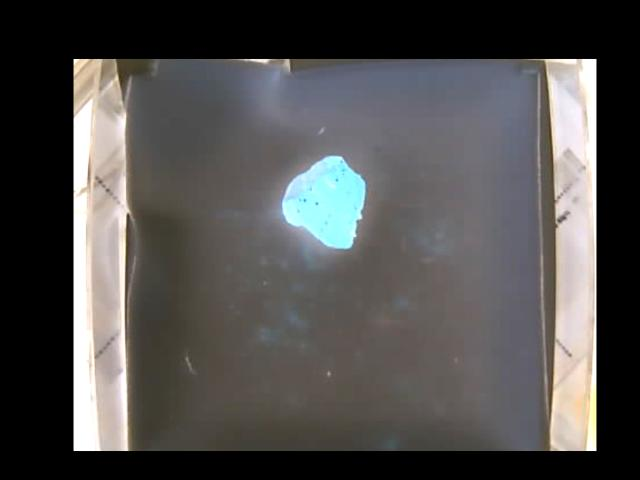Brisk: (281, 153, 365, 247)
